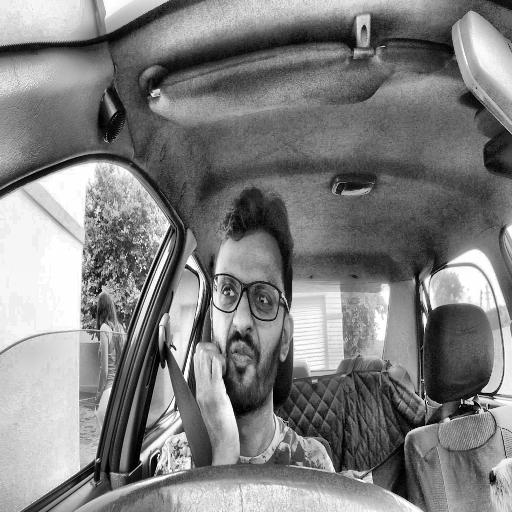awake: (209, 186, 294, 414)
